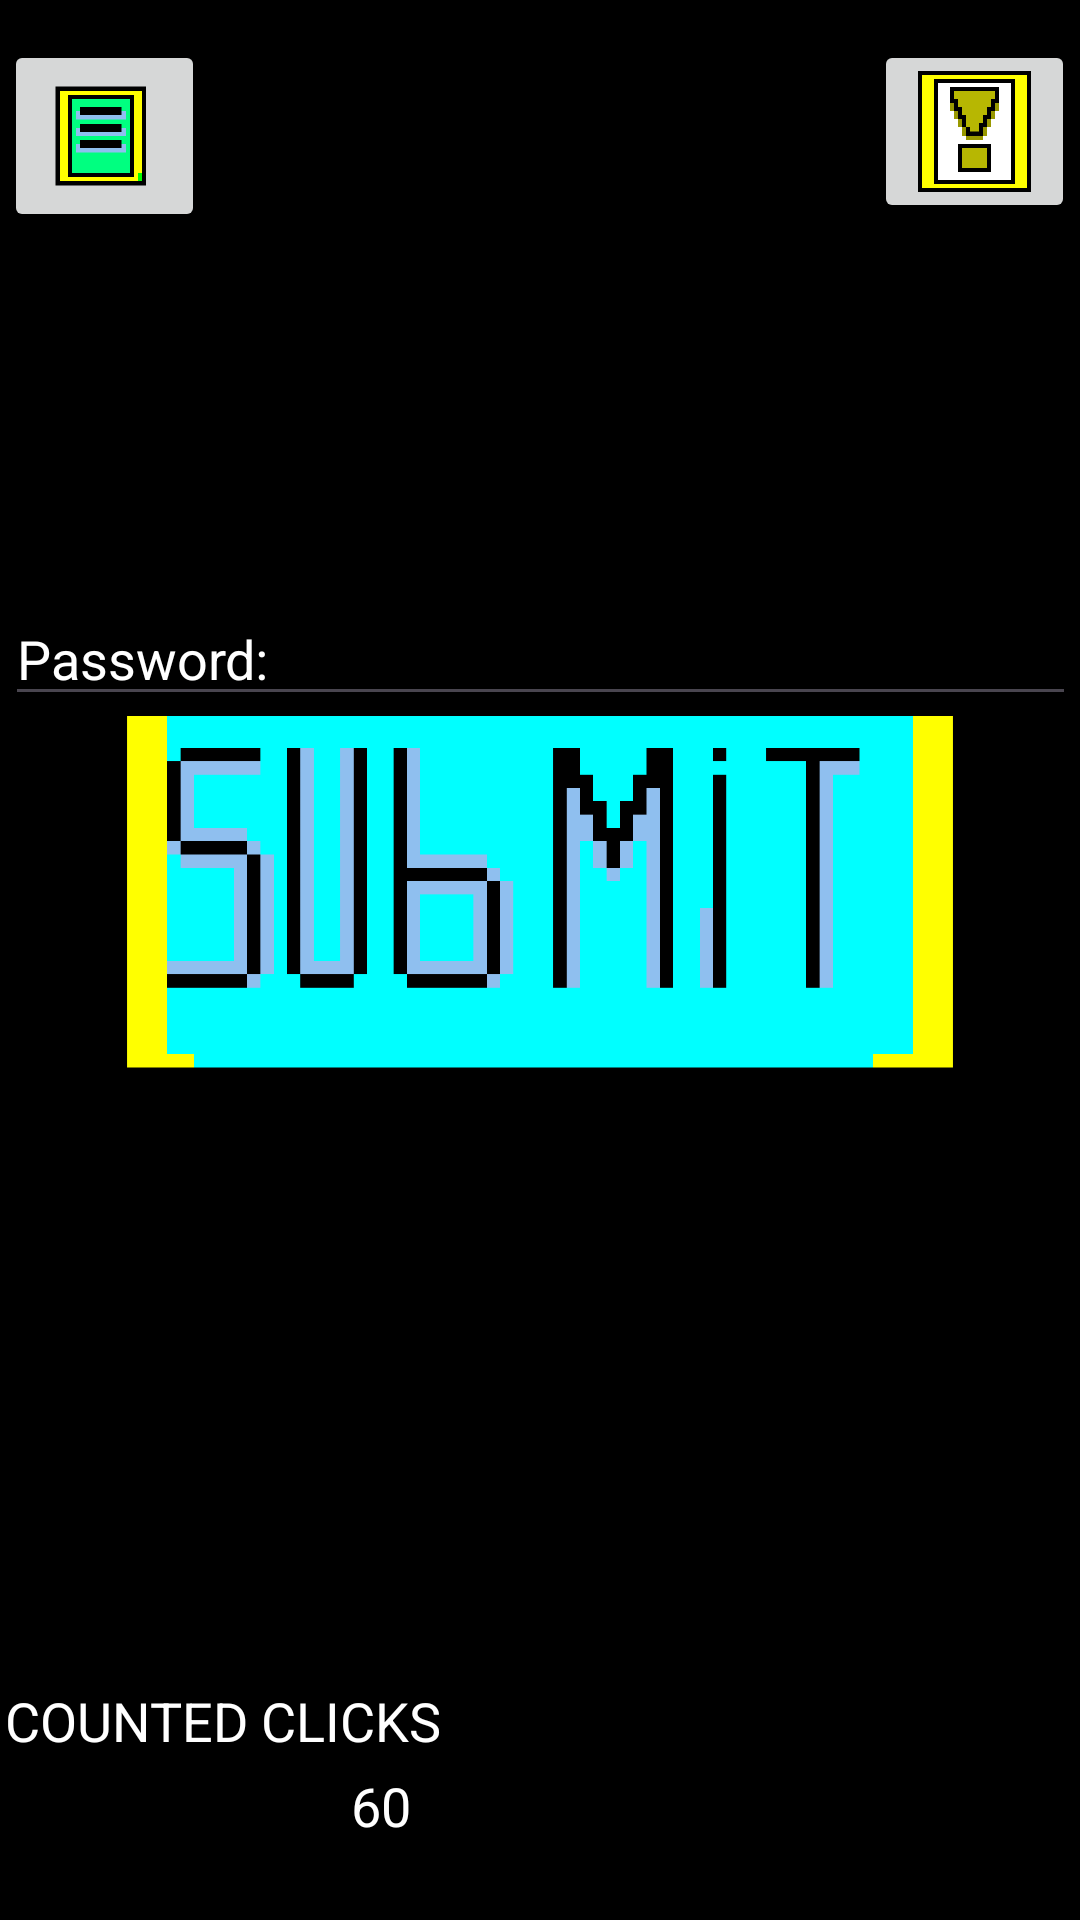

Icon click points for this 1080px×1920px phone screenshot, format [x,y]:
hintbutton: [974,131]
menubutton: [104,136]
